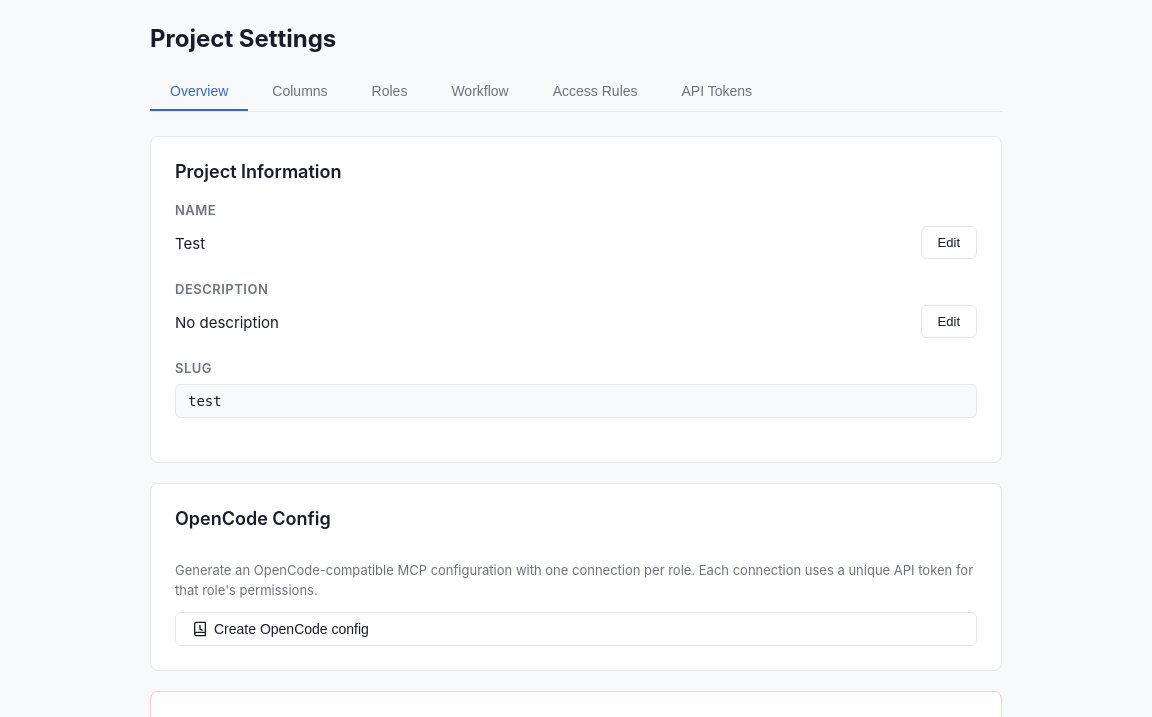
Settings › shows columns table with columns when columns exist
The width and height of the screenshot is (1152, 717).
Click the button with class "tab-btn" showing "Columns" at (300, 92), box [252,73,348,111]
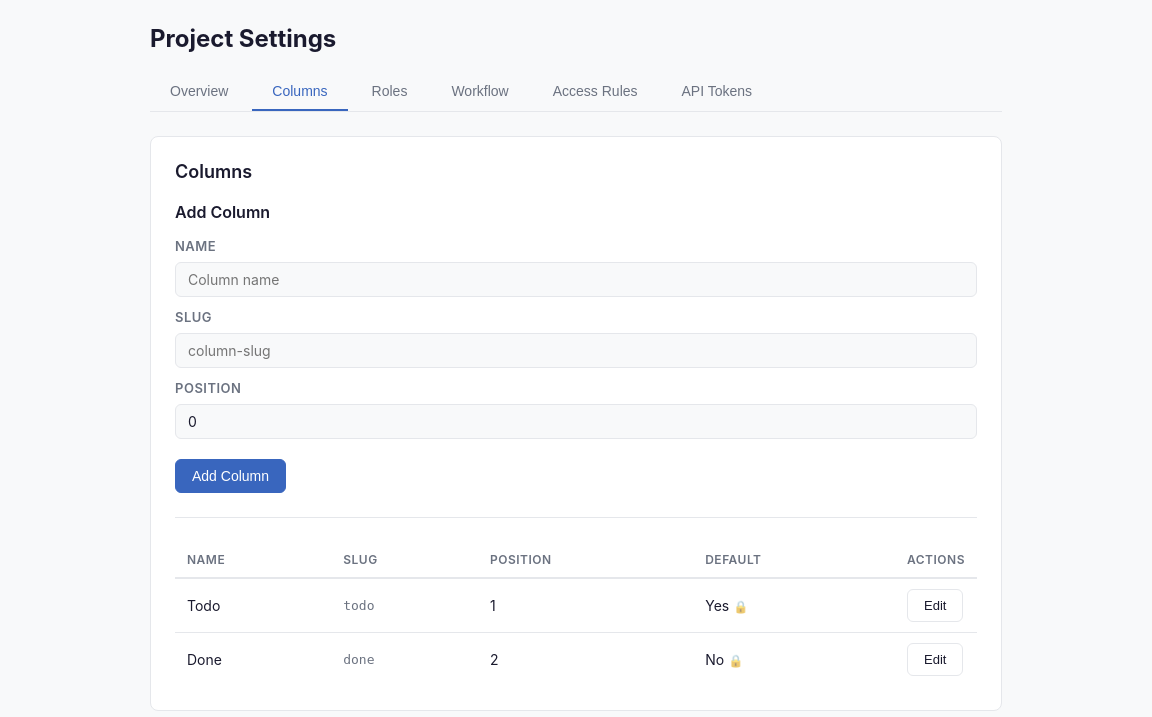
Now the row "Todo todo 1 Yes🔒 Edit" is shown, box [175,578,977,632]
Now the row "Done done 2 No🔒 Edit" is shown, box [175,632,977,686]
